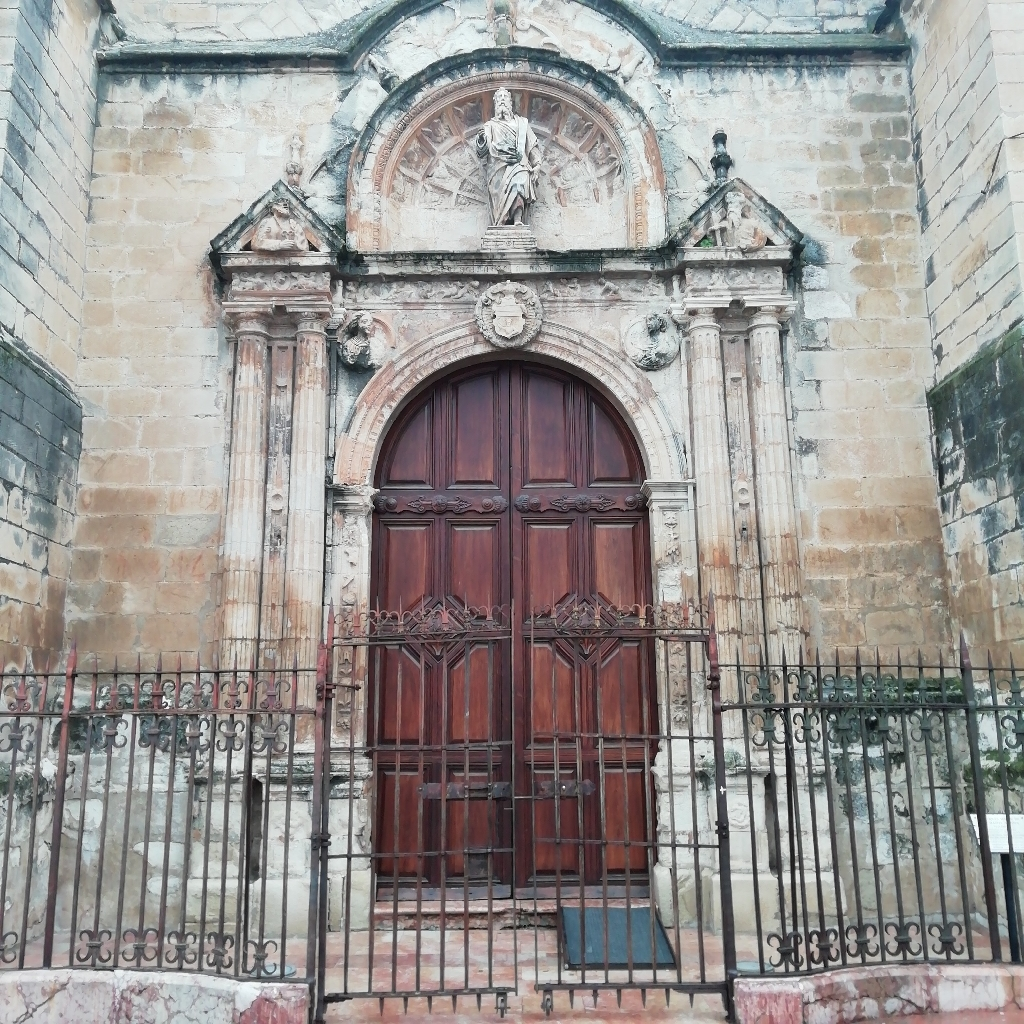arco-medio-punto: (361, 339, 666, 524)
fronton: (657, 172, 813, 263), (204, 176, 357, 268)
